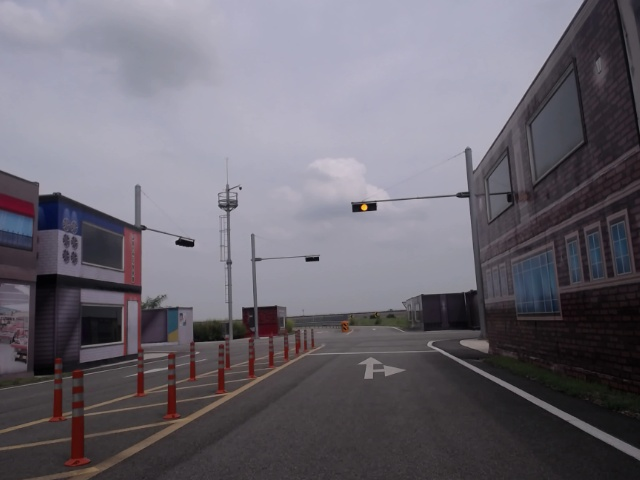orange_3: (351, 202, 377, 213)
